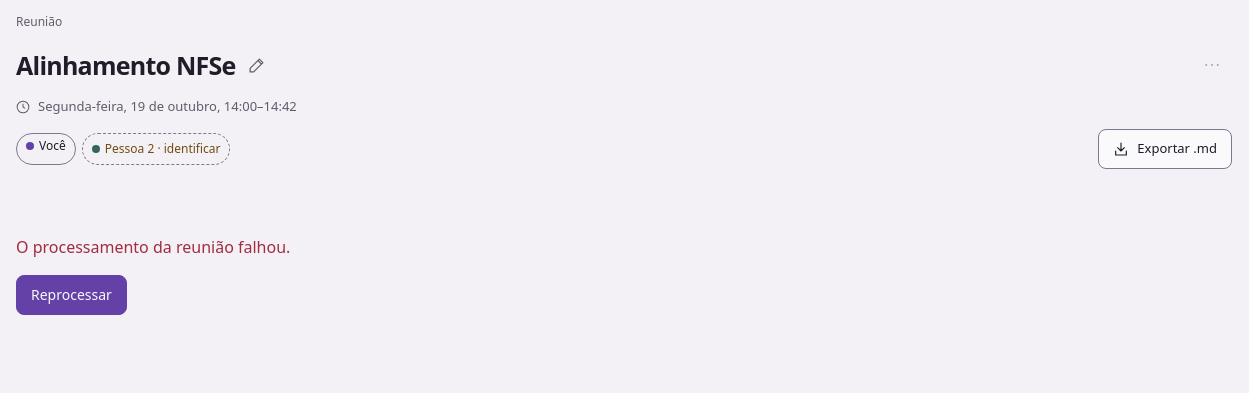
it: MeetingDetail › does not carry reprocessing confirmation into another meeting
Step 1. Click the button "Reprocessar" → [71, 294], box [16,274,127,314]
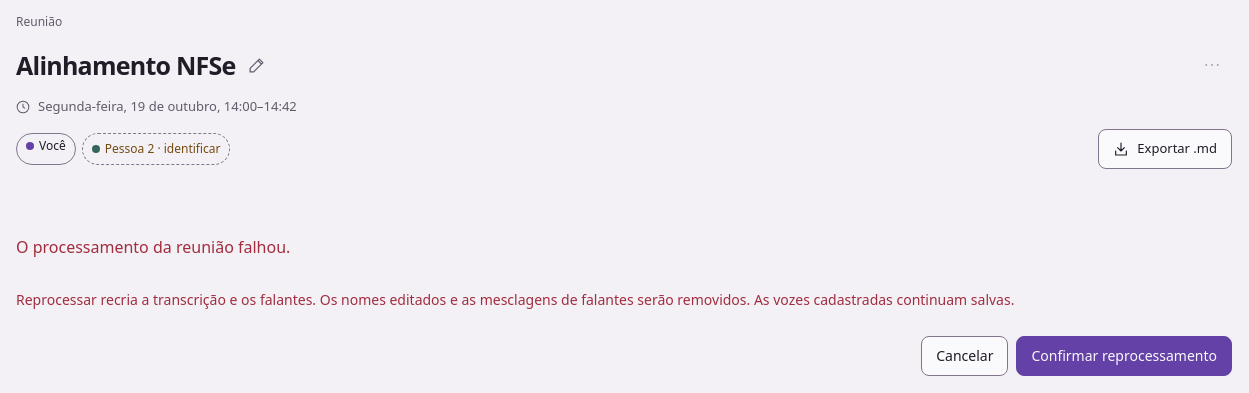
Check: the element named "Confirmar reprocessamento" is shown, box [16,274,1232,376]
